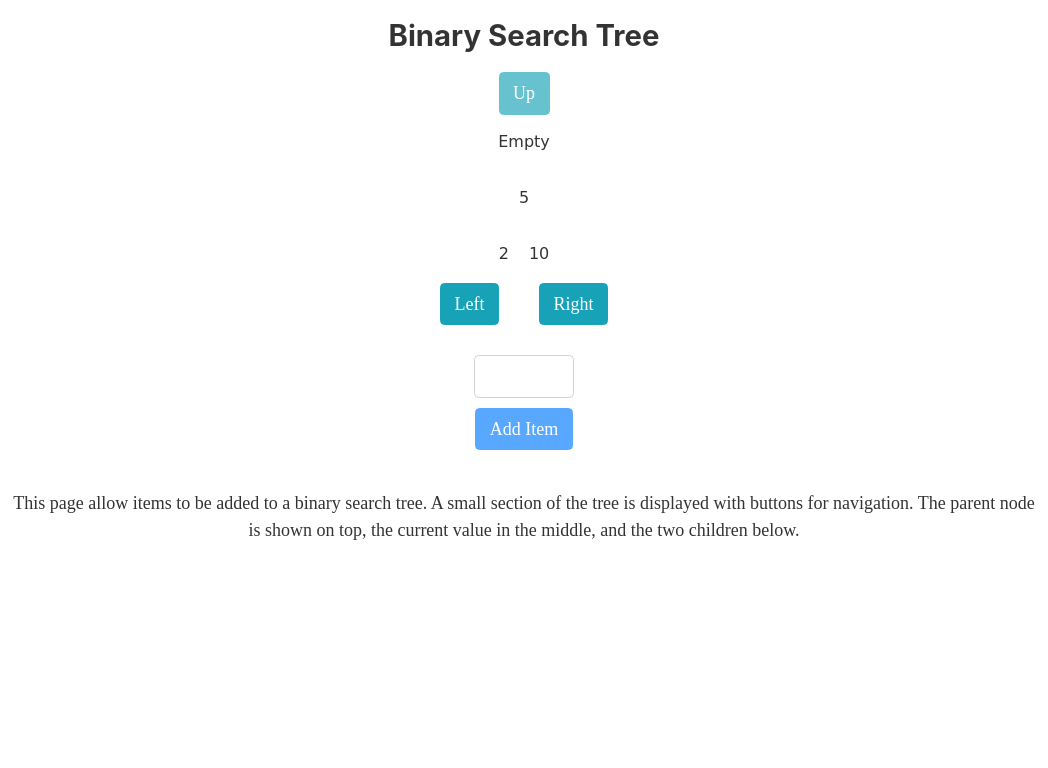
Scenario: BinarySearchTree › Click rightButton and display correctly
Click the button with id "rightButton": (574, 304) 539,283 -> 608,326
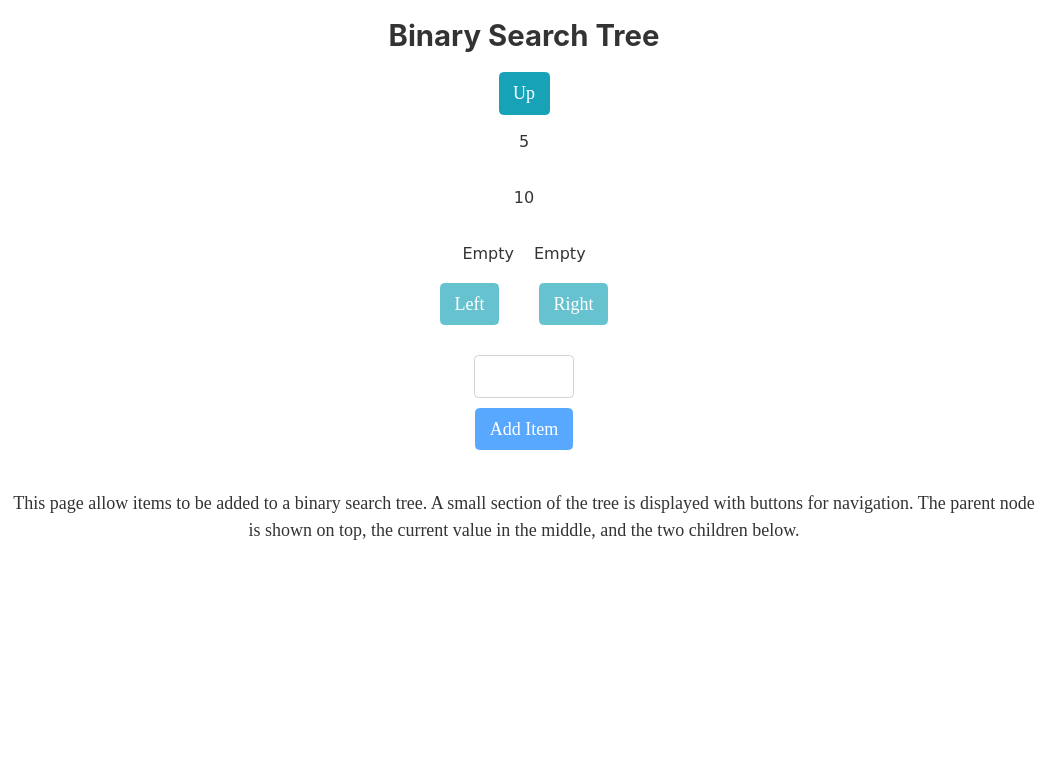
Check: the text with id "mainDisplay" reads "10", box 514,188 -> 534,207
